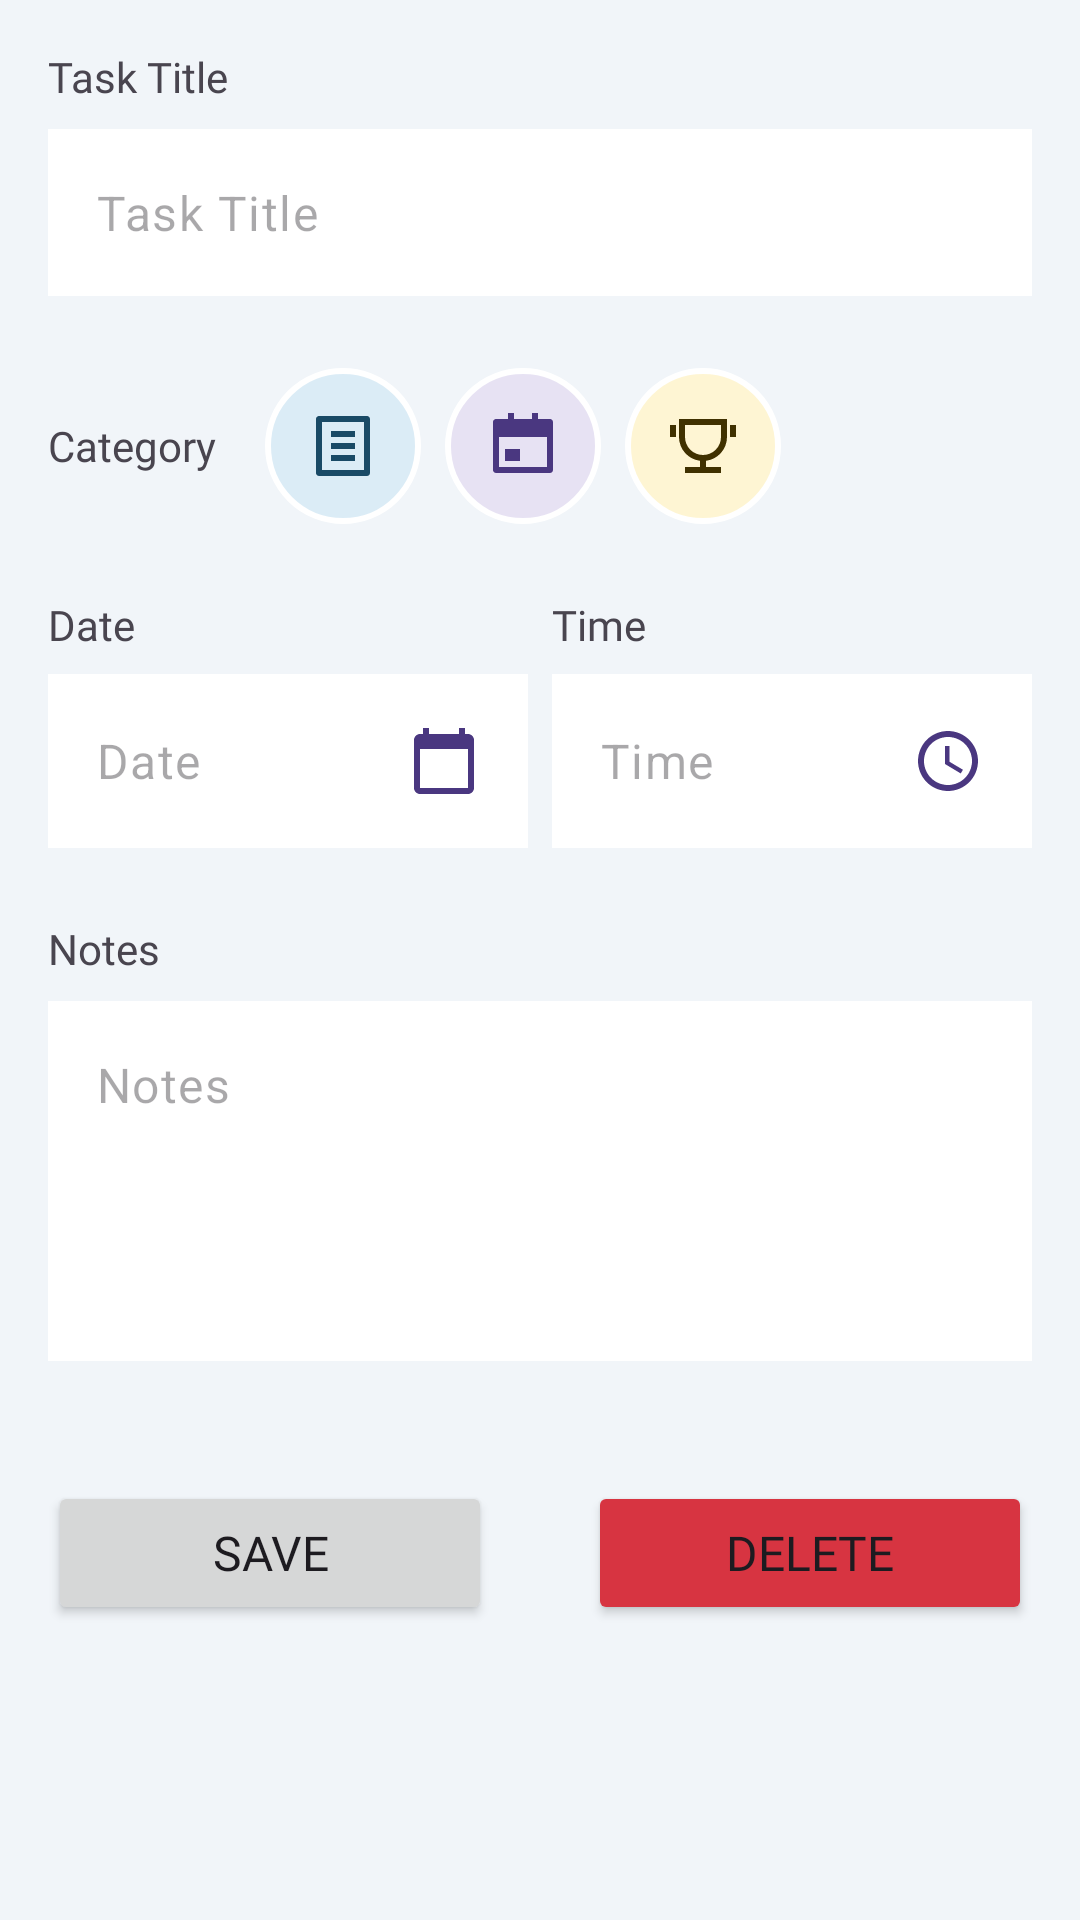

Where icons sit on this 1080×1920 app screen, as (x1,y1,x2,y2):
radio event: (493,413,553,473)
radio goal: (631,374,775,518)
radio task: (316,416,370,476)
